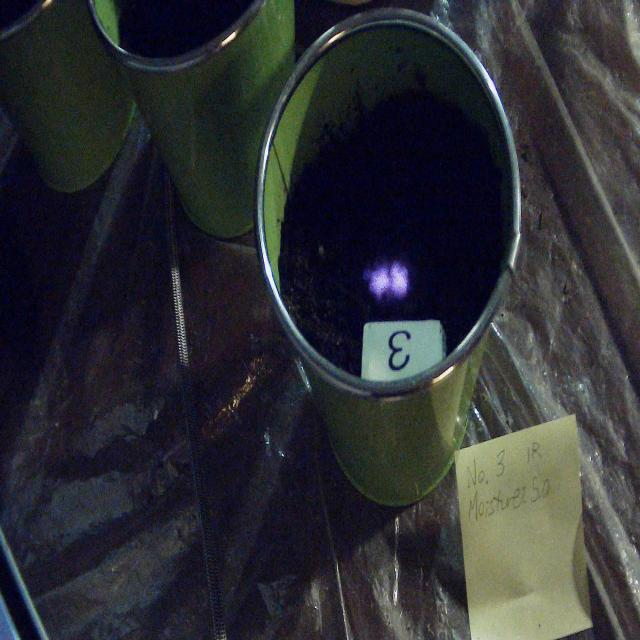soil-moisture-5.0: (365, 261, 410, 300)
